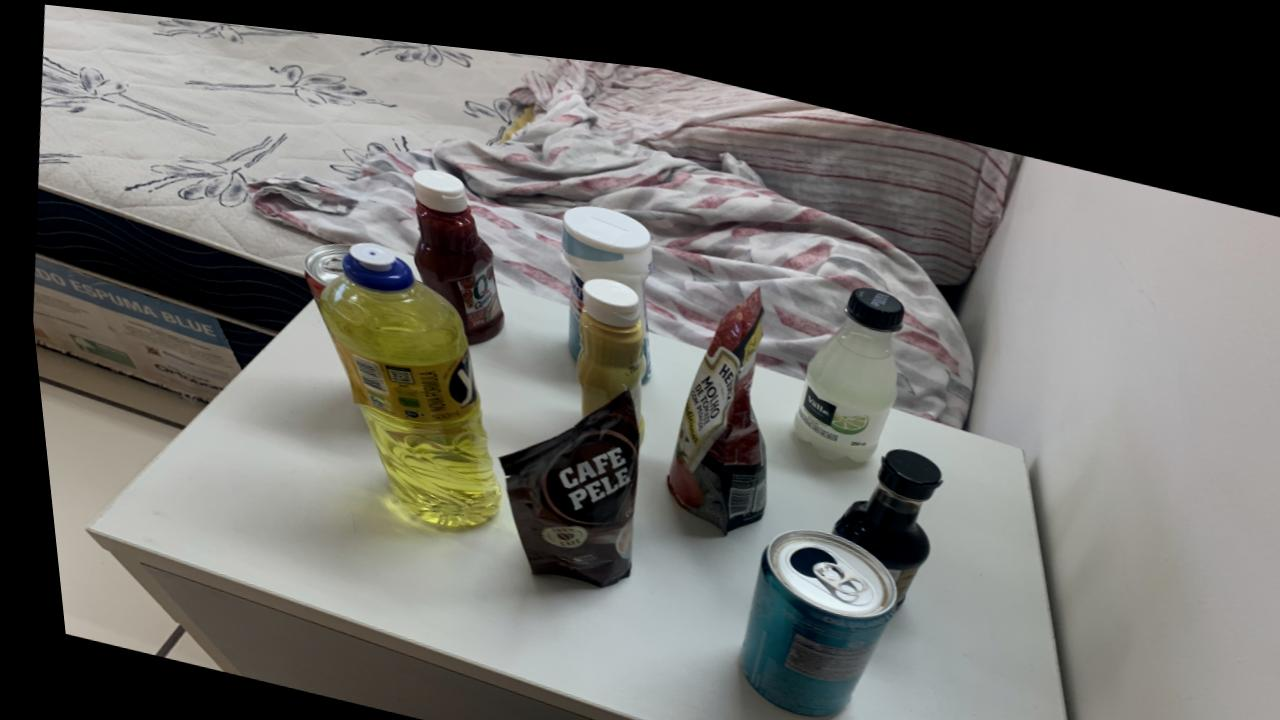Cleaner-Cleanup_Items: (558, 192, 647, 344)
Coffee-Pantry_Items: (492, 378, 631, 574)
Coke-Drinks: (298, 236, 345, 291)
Detergent-Cleanup_Items: (311, 234, 490, 518)
English_Sauce-Pantry_Items: (823, 430, 933, 588)
Ketchup-Pantry_Items: (409, 159, 498, 334)
Mustard-Pantry_Items: (569, 265, 638, 421)
Soda-Drinks: (786, 268, 900, 444)
Tea-Drinks: (726, 513, 886, 700)
Tomato_Sauce-Pantry_Items: (658, 274, 758, 517)
